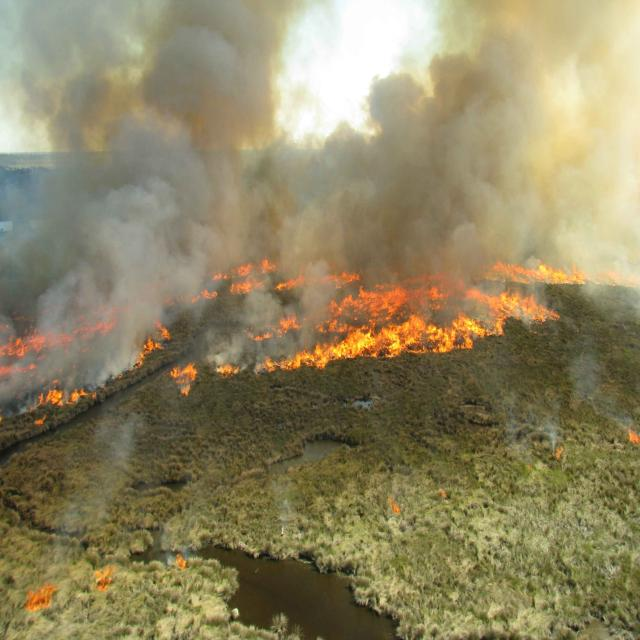Fire: (5, 272, 625, 386)
Smoke: (5, 0, 640, 412)
